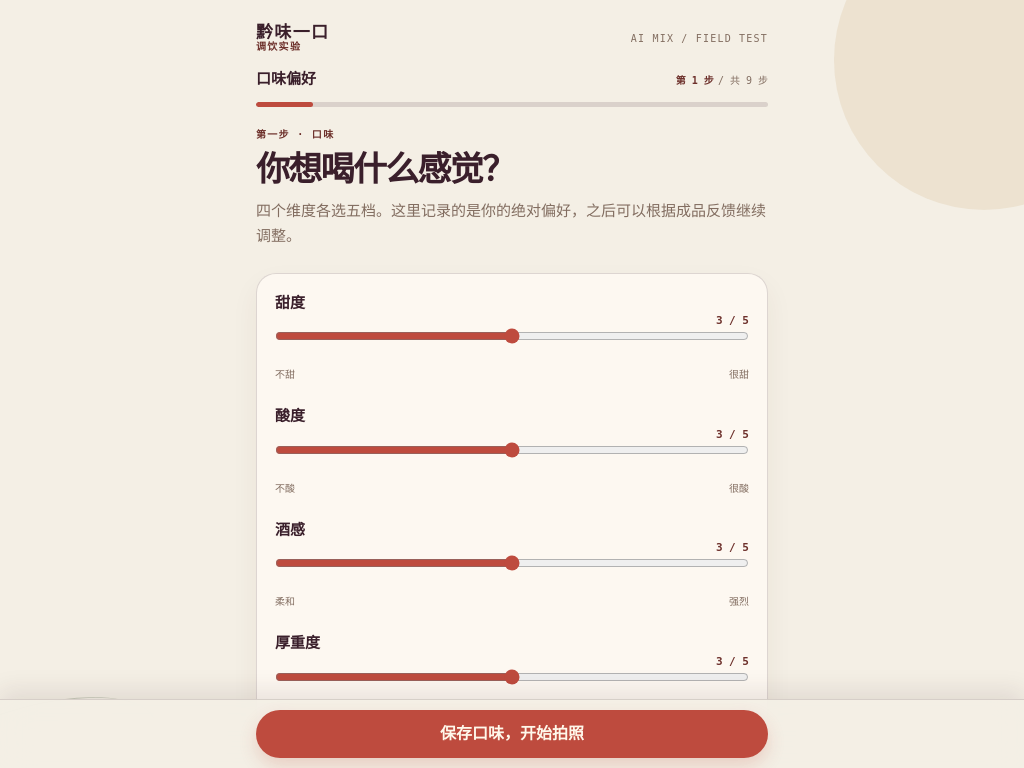
Test: SessionShell › renders the screen represented by the latest server snapshot after saving preferences
Expected: the heading "你想喝什么感觉？" is shown, [256, 151, 514, 188]
Click the button "保存口味，开始拍照".
click(512, 734)  # box [256, 710, 768, 758]
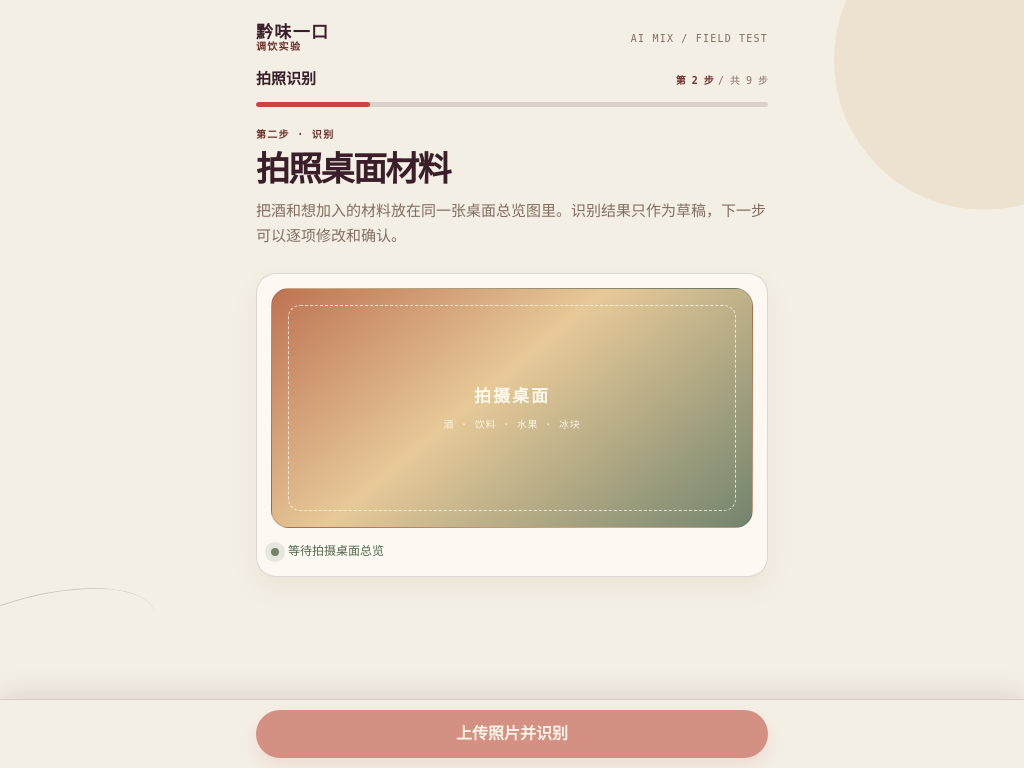
Now the heading "拍照桌面材料" is shown, box [256, 151, 450, 188]
